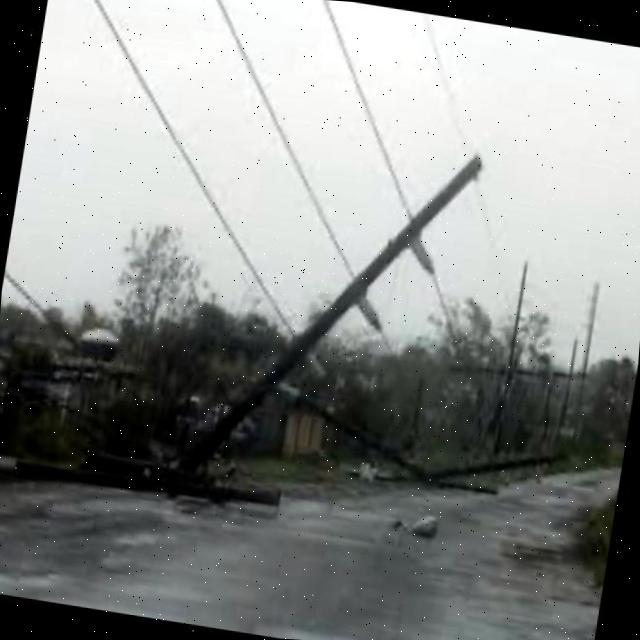Broken Pole: (181, 156, 483, 467), (14, 458, 280, 504)
